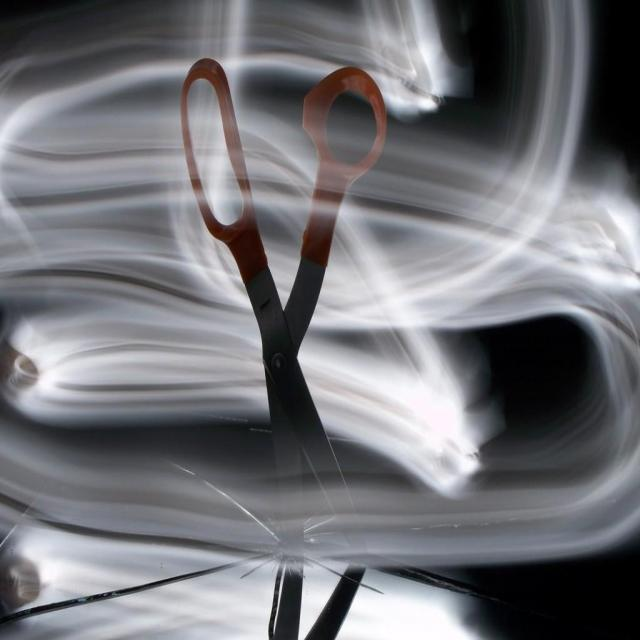scissor: (178, 54, 390, 490)
